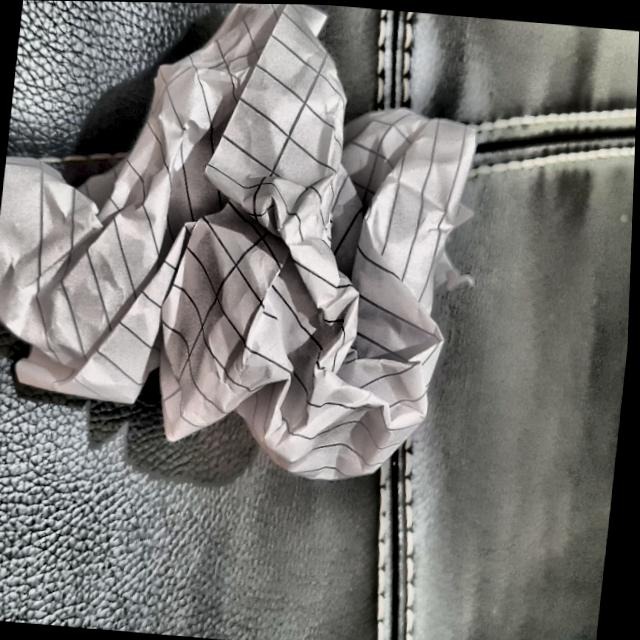paper: (0, 0, 486, 496)
